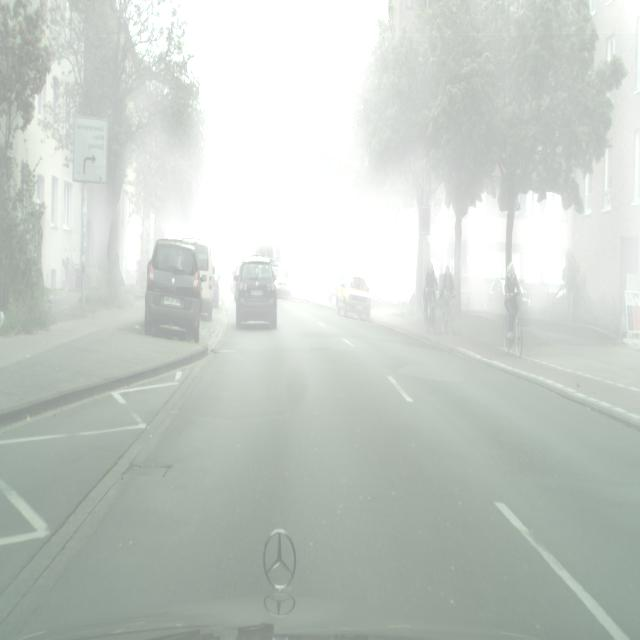bus: (145, 239, 202, 342), (235, 256, 278, 329), (181, 236, 216, 320), (337, 273, 373, 321), (327, 272, 346, 308), (285, 267, 305, 299), (230, 256, 243, 296), (274, 274, 292, 299), (212, 262, 223, 286)
car: (504, 261, 523, 357), (441, 267, 454, 334), (425, 262, 437, 333)
